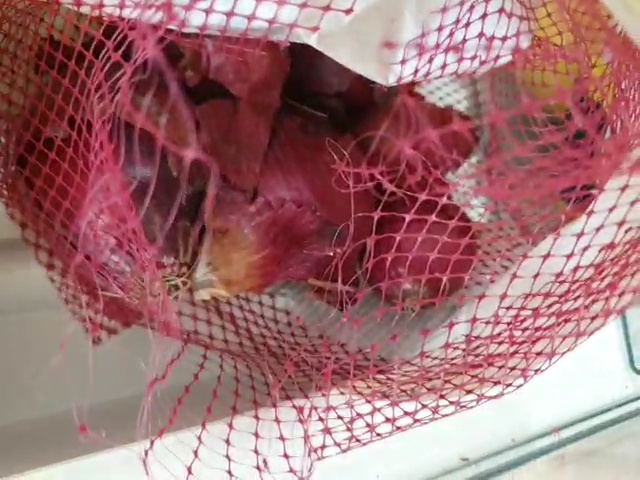red_onion: (118, 46, 472, 330)
